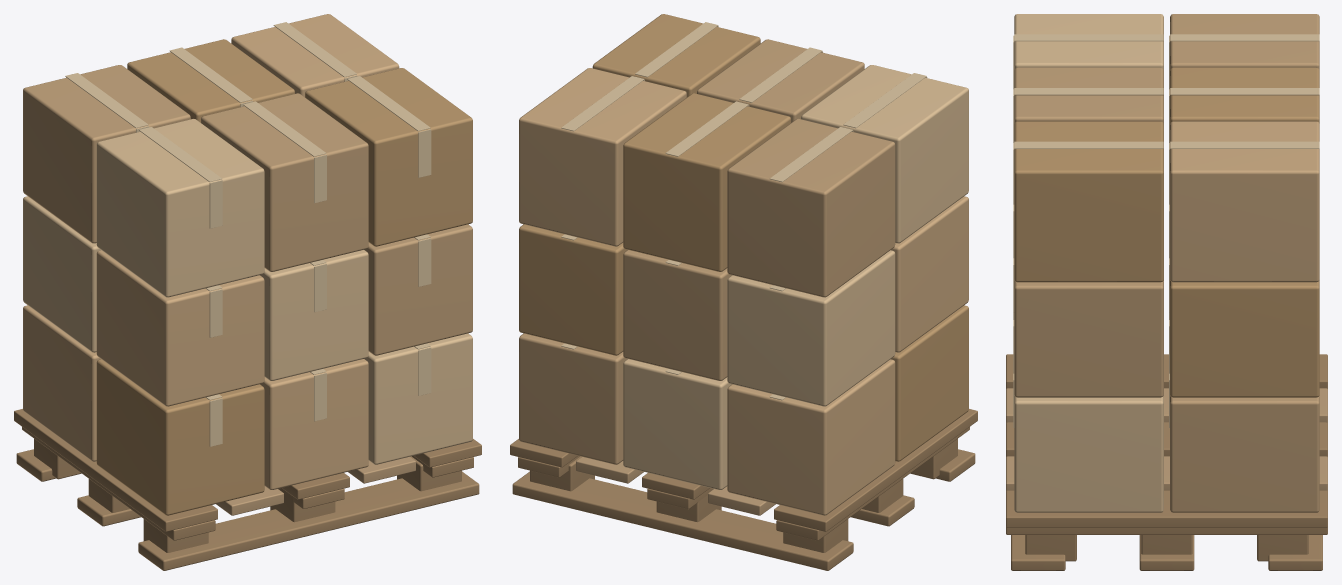
File: SM_LoadedPallet.fbx
The picture shows the model from 3 angles, left to right: view 1: azimuth 30°, elevation 25°; view 2: azimuth 150°, elevation 25°; view 3: azimuth 270°, elevation 25°; orthographic projection. The views are drawn at different scales.
Visible parts, largest first — view 1: SM_LoadedPallet; view 2: SM_LoadedPallet; view 3: SM_LoadedPallet.
Part boxes in pixels (<box>): SM_LoadedPallet: <box>14,14,481,570</box>; SM_LoadedPallet: <box>510,14,977,570</box>; SM_LoadedPallet: <box>1006,14,1327,570</box>.
Size of the model in its own units: 120 by 100 by 137.
